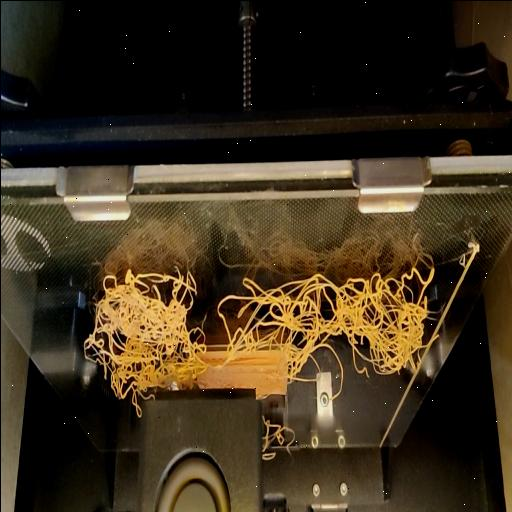spaghetti: (84, 259, 438, 399), (258, 416, 292, 464), (134, 400, 142, 422)
